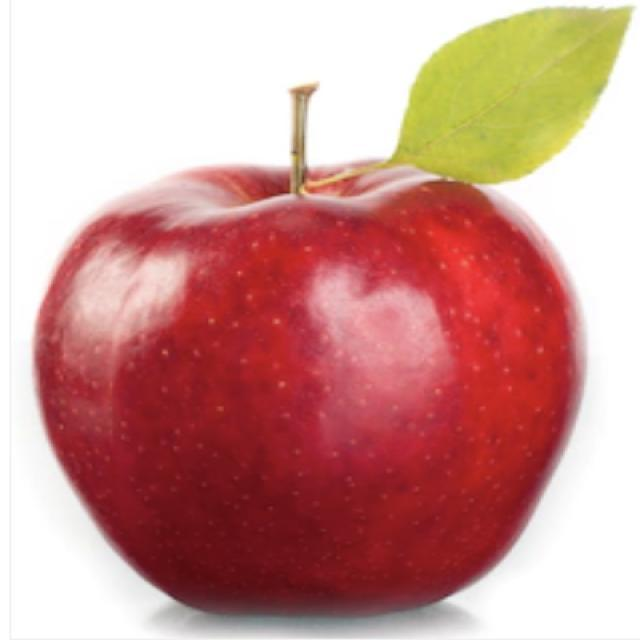Apple: (31, 82, 587, 618)
